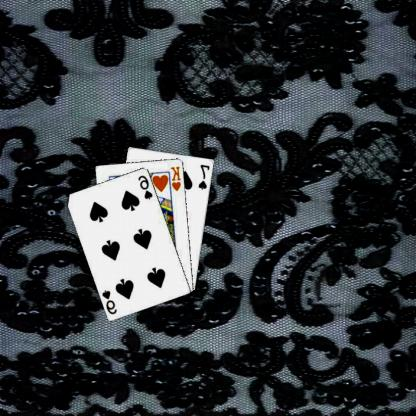6S: (101, 287, 120, 315), (137, 172, 155, 200)
7S: (198, 162, 213, 190)
KH: (170, 164, 184, 192)
